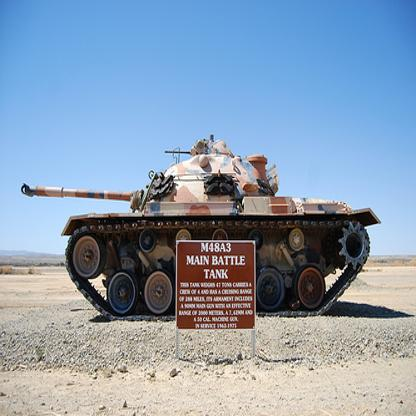Tank: (15, 133, 385, 331)
